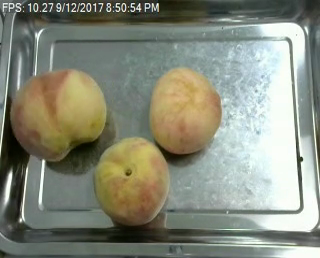Peach: (10, 67, 108, 161), (92, 136, 169, 225), (148, 67, 221, 155)
